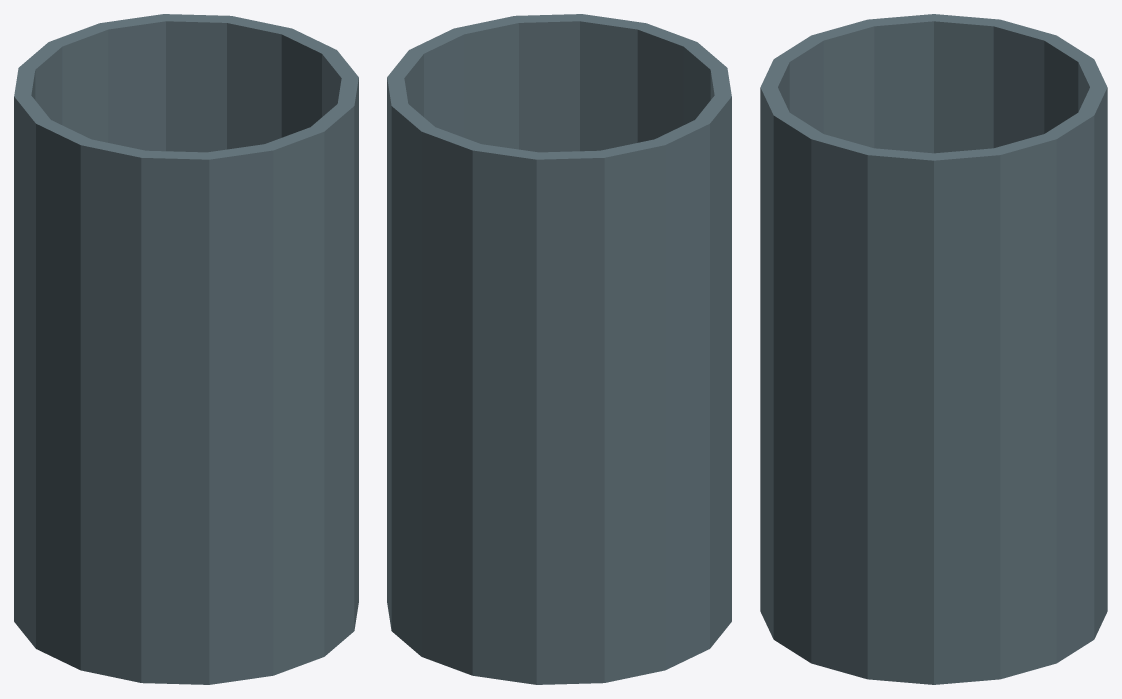
The model's file is body.obj.
3 renders of one model, left to right at view 1: azimuth 30°, elevation 25°; view 2: azimuth 150°, elevation 25°; view 3: azimuth 270°, elevation 25°, orthographic.
Size of the model in its own units: 0.6 by 1 by 0.6.
